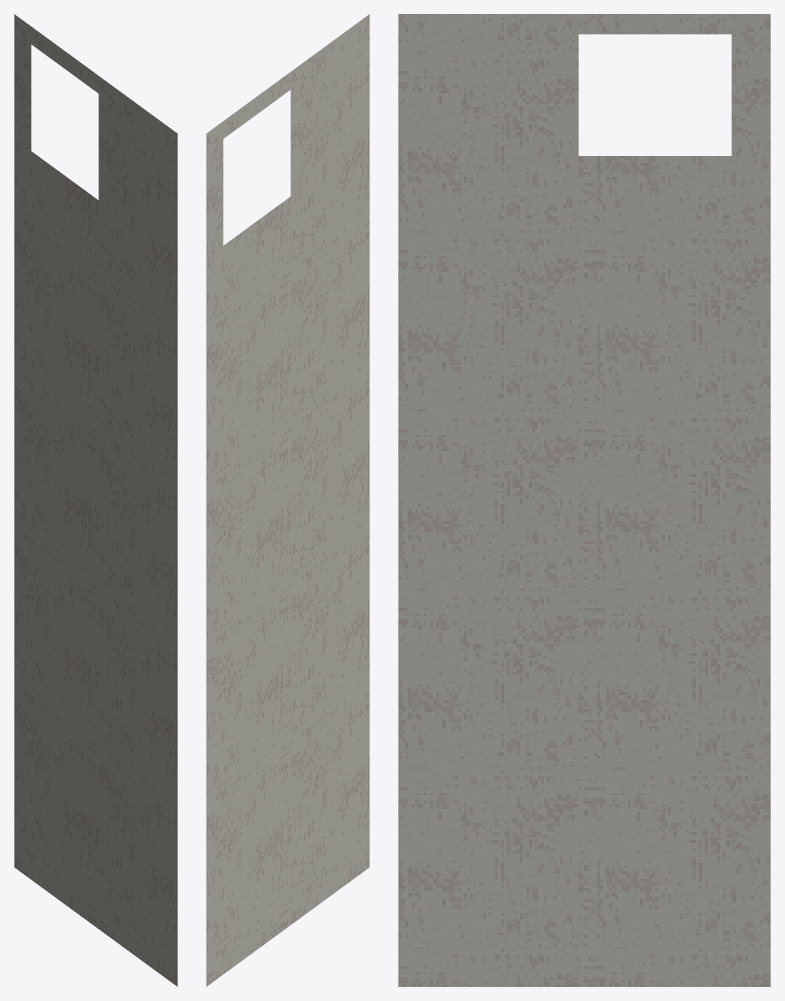
File: kd_stage_135b75_4_30_bounded_piece_7.glb
3 renders of one model, left to right at view 1: azimuth 30°, elevation 25°; view 2: azimuth 150°, elevation 25°; view 3: azimuth 270°, elevation 25°, orthographic. The views are drawn at different scales.
Visible parts, largest first — view 1: kd_stage_135b75_4_30_bounded_piece_7; view 2: kd_stage_135b75_4_30_bounded_piece_7; view 3: kd_stage_135b75_4_30_bounded_piece_7.
Part boxes in pixels (x1,y1,x2,y2): kd_stage_135b75_4_30_bounded_piece_7: (14, 14, 177, 986); kd_stage_135b75_4_30_bounded_piece_7: (206, 14, 369, 986); kd_stage_135b75_4_30_bounded_piece_7: (398, 14, 770, 986).
Bounding box in the file's own units: 0 × 2.11 × 0.7311.
1 material, 1 textured.
